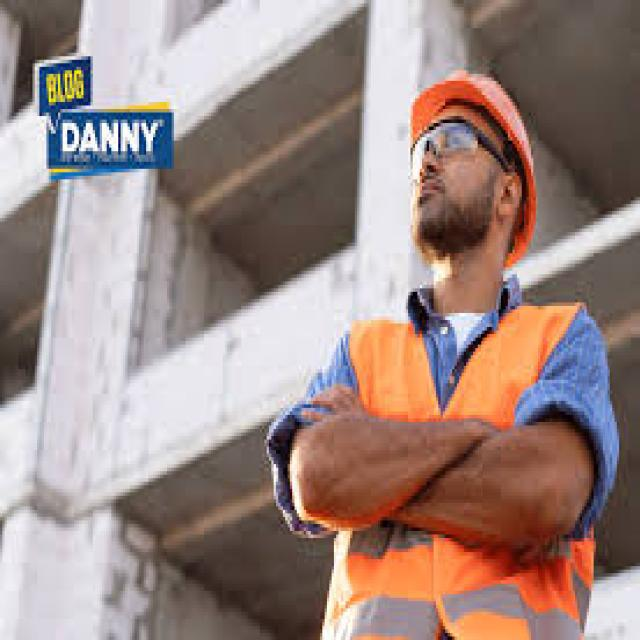oculos-epi: (410, 120, 506, 176)
